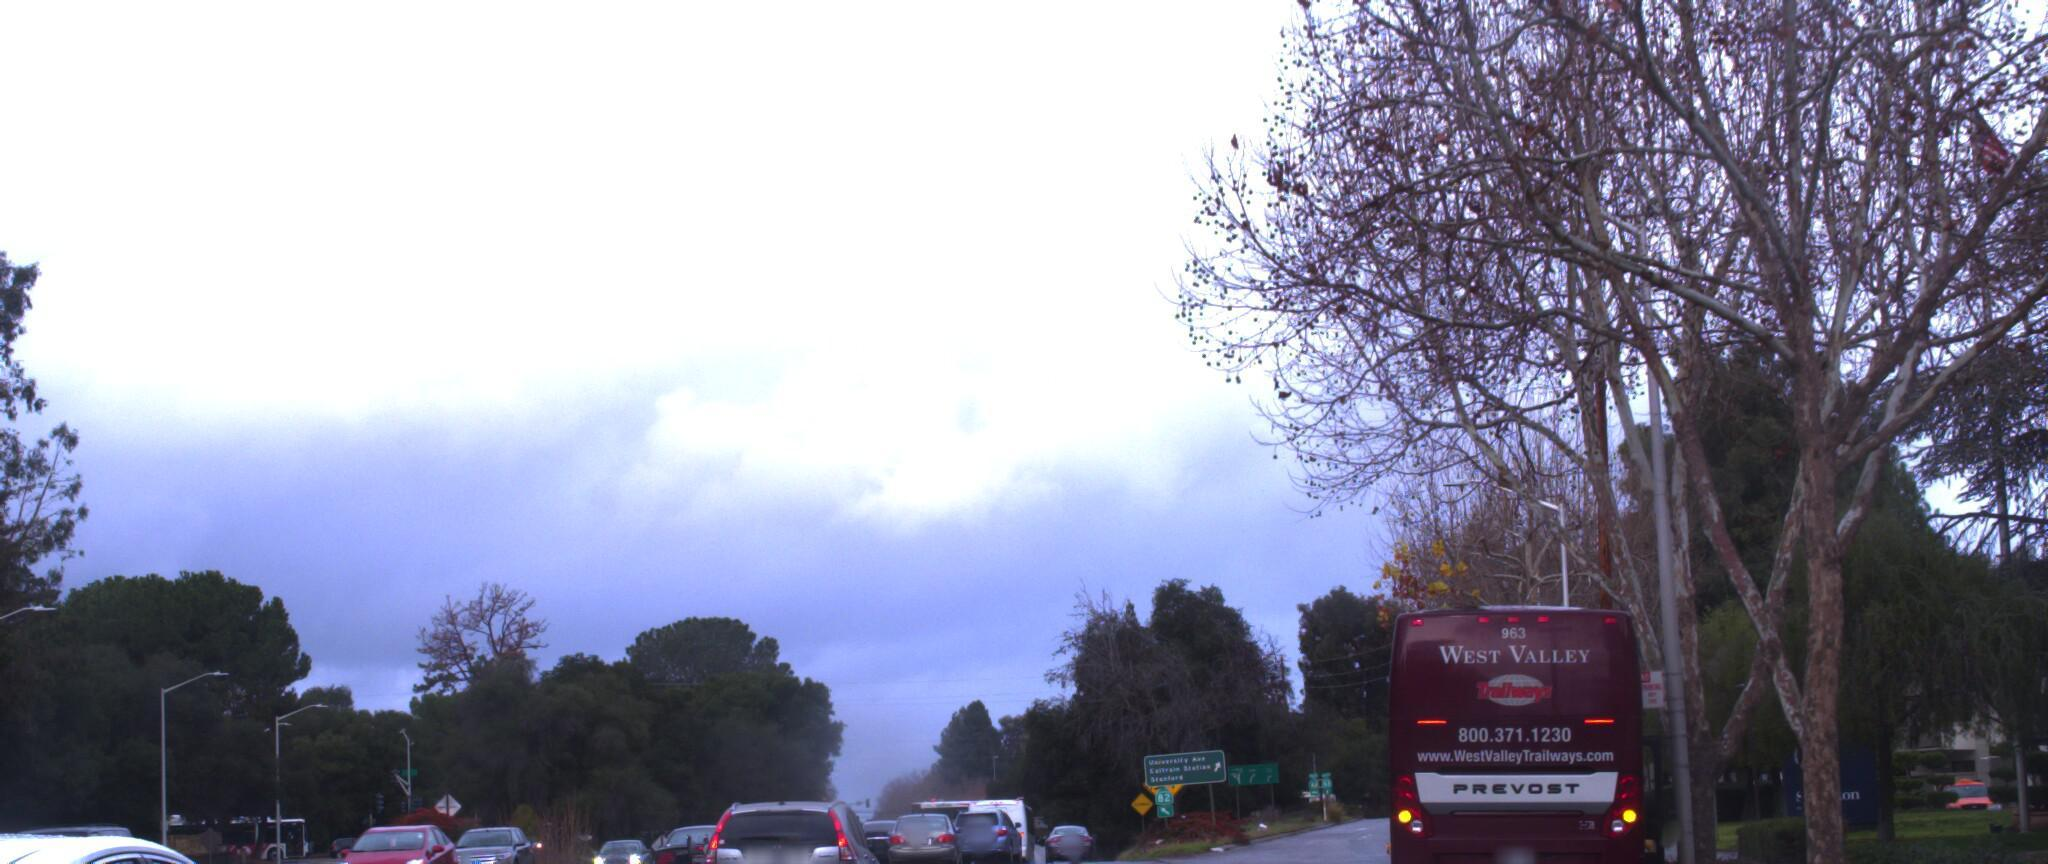bus: (1358, 590, 1676, 864)
car: (0, 814, 444, 864), (682, 773, 884, 864), (324, 814, 462, 864), (876, 800, 956, 864)
